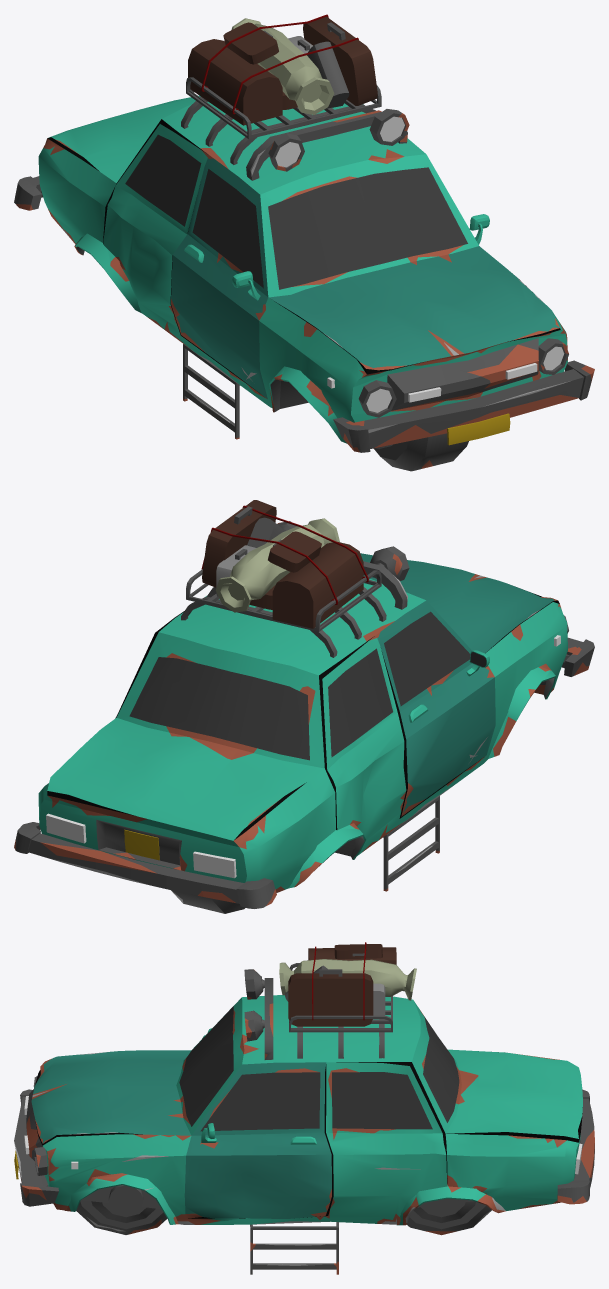
File: FlyingCar_rusty.fbx
The picture shows the model from 3 angles, top to bottom: view 1: azimuth 30°, elevation 25°; view 2: azimuth 150°, elevation 25°; view 3: azimuth 270°, elevation 25°; orthographic projection. The views are drawn at different scales.
Parts seen in each view (by area): view 1: carrozo; view 2: carrozo; view 3: carrozo.
Boxes of the visible parts, x1,y1,x2,y2 form: carrozo: [14, 14, 594, 471]; carrozo: [14, 500, 594, 913]; carrozo: [14, 942, 594, 1274].
Bounding box in the file's own units: 163 × 204 × 381.
